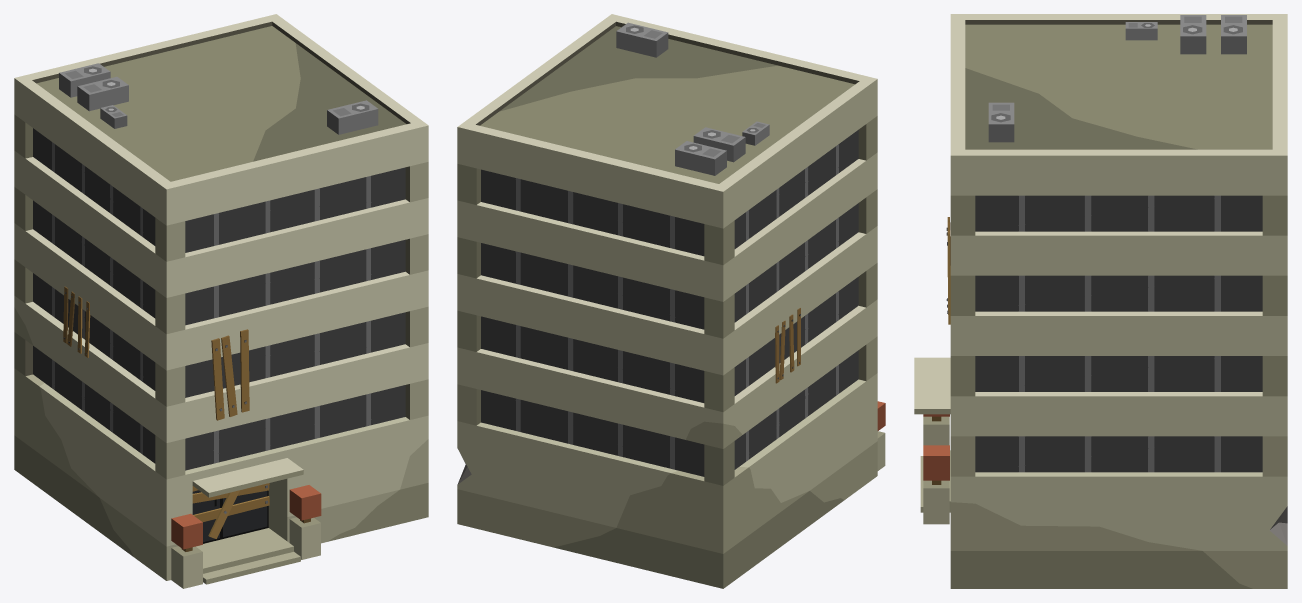
File: SA_Bld_OfficeWhite_02.glb
The picture shows the model from 3 angles, left to right: view 1: azimuth 30°, elevation 25°; view 2: azimuth 150°, elevation 25°; view 3: azimuth 270°, elevation 25°; orthographic projection. The views are drawn at different scales.
Visible parts, largest first — view 1: SA_Bld_OfficeWhite_02; view 2: SA_Bld_OfficeWhite_02; view 3: SA_Bld_OfficeWhite_02.
Boxes of the visible parts, bbox=[...] form: SA_Bld_OfficeWhite_02: bbox=[14, 14, 428, 588]; SA_Bld_OfficeWhite_02: bbox=[457, 14, 885, 588]; SA_Bld_OfficeWhite_02: bbox=[914, 14, 1287, 588].
Size of the model in its own units: 5.77 by 8.42 by 6.37.
1 material, 1 textured.
